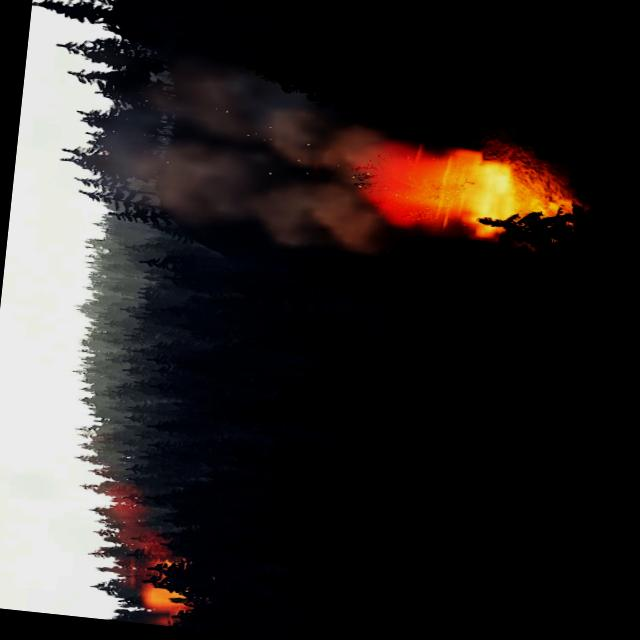fire: (360, 134, 581, 252), (138, 580, 190, 628)
smoke: (90, 46, 399, 262), (92, 481, 187, 594)
